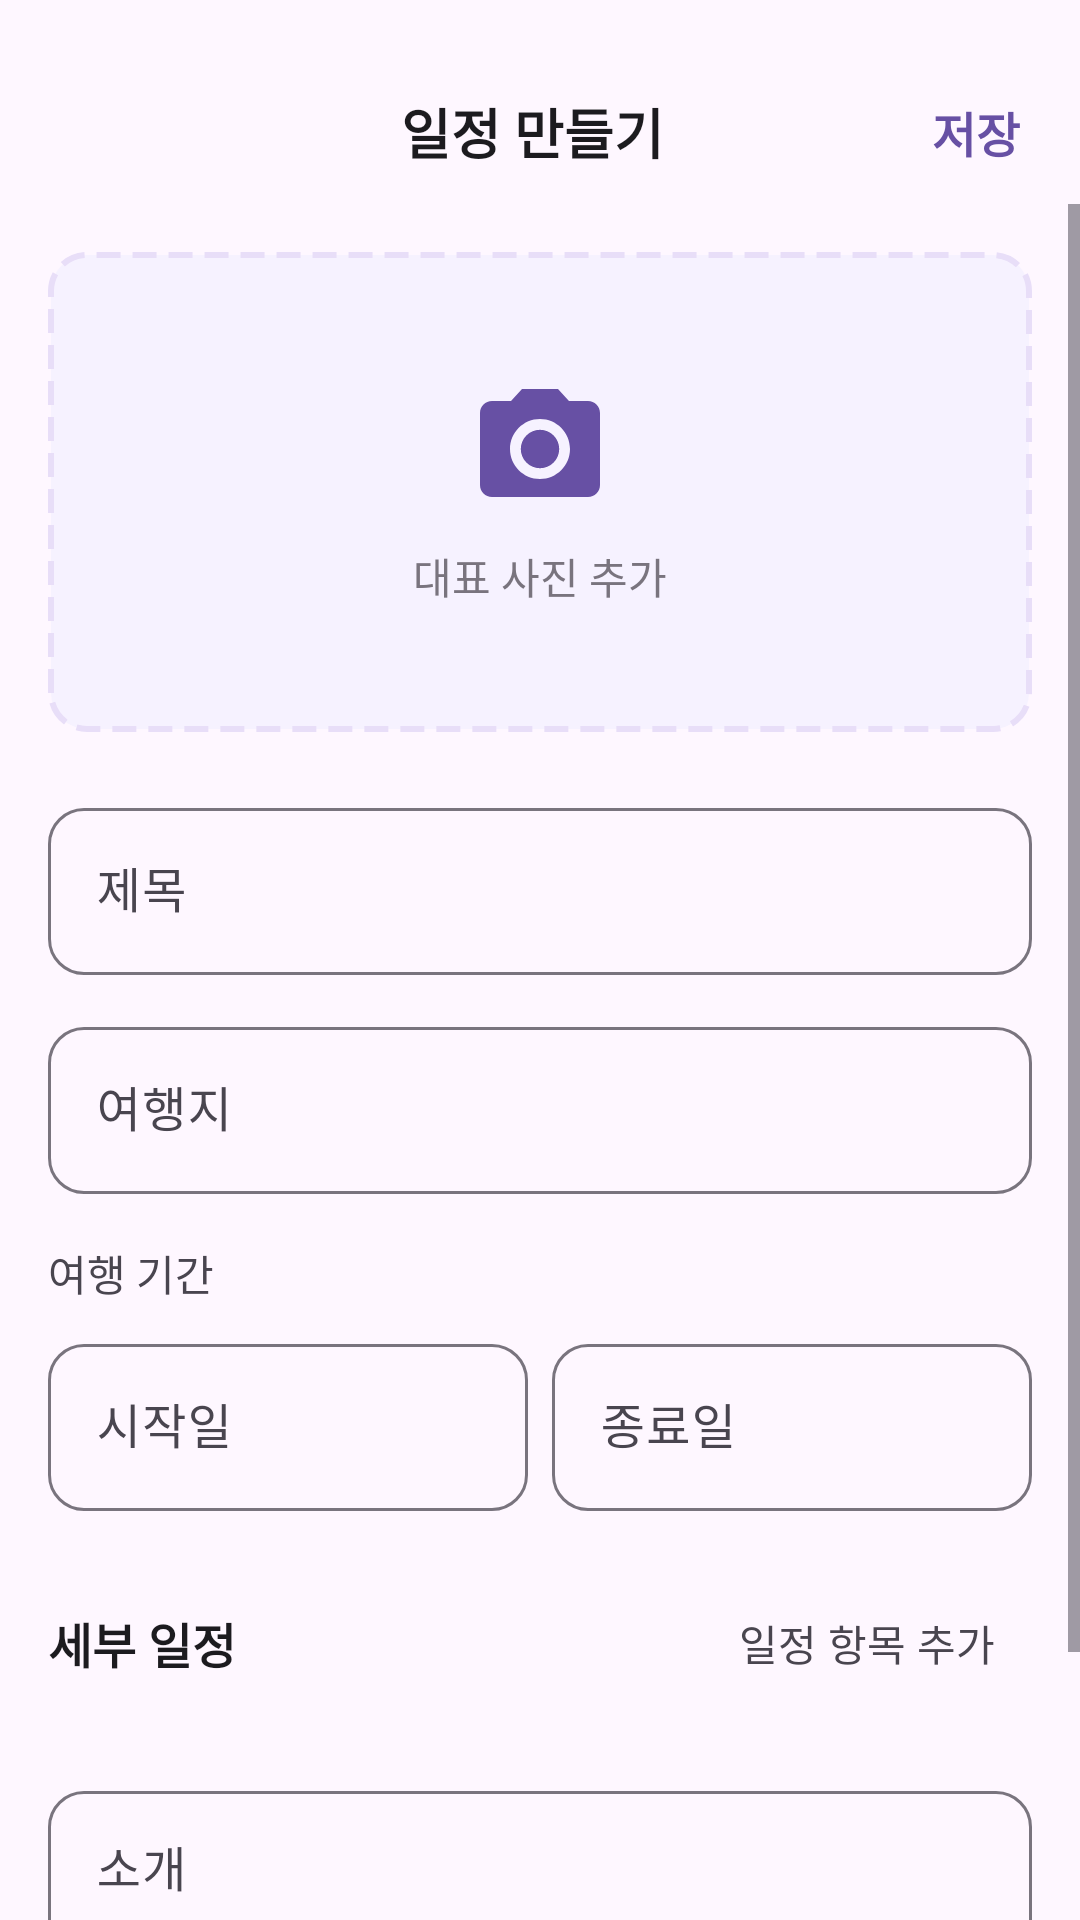

Icon bounding boxes for this 1080 x 1920 phone screenshot, format (x1, y1, x2, y2):
camera: (480, 389, 600, 497)
